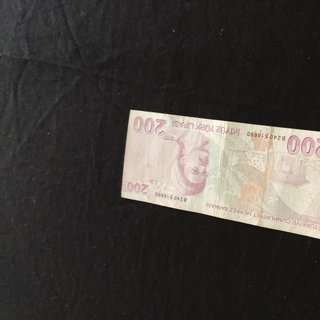200TLBack: (120, 109, 320, 241)
